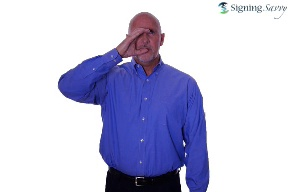drink: (110, 25, 152, 59)
